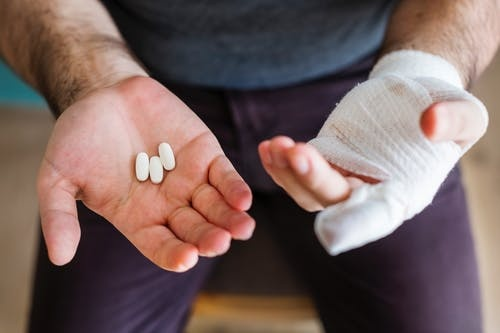pills: (146, 149, 165, 190), (160, 137, 176, 174), (134, 151, 150, 187)
